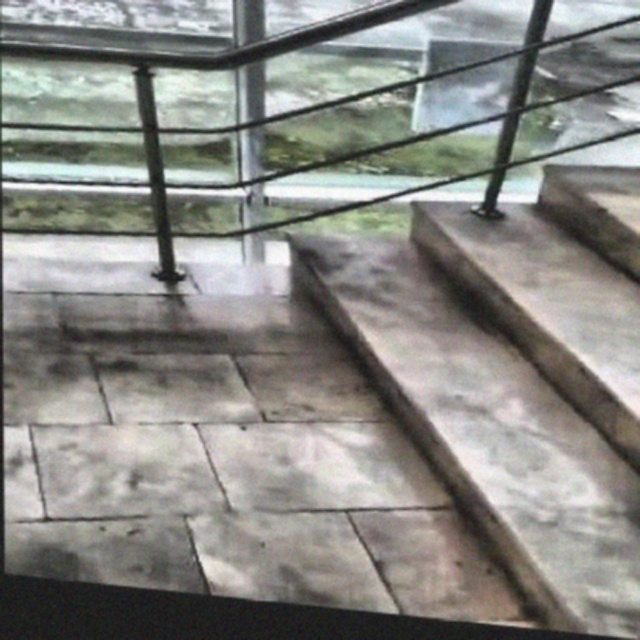stair: (297, 137, 640, 638)
